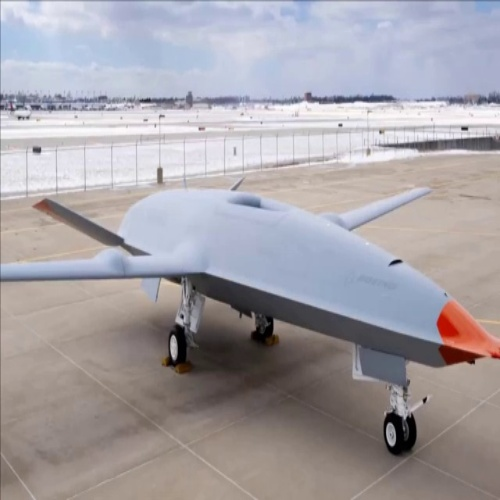uav: (1, 182, 497, 455)
